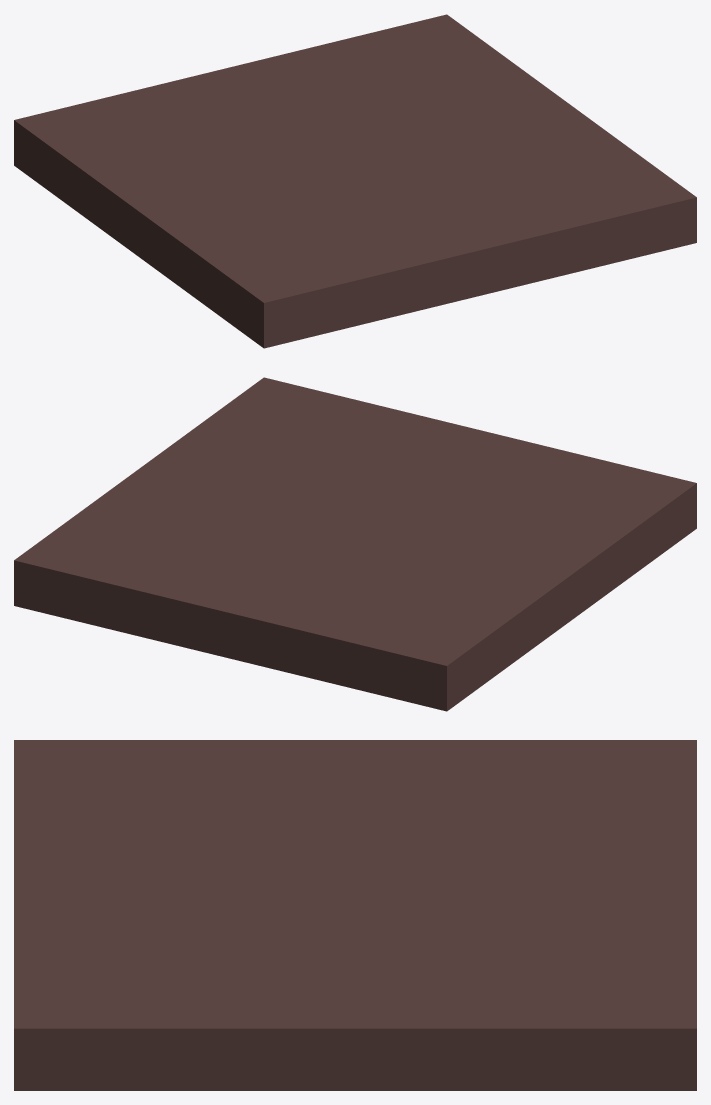
File: floor.FBX
3 renders of one model, top to bottom at view 1: azimuth 30°, elevation 25°; view 2: azimuth 150°, elevation 25°; view 3: azimuth 270°, elevation 25°, orthographic. The views are drawn at different scales.
Visible parts, largest first — view 1: Object267; view 2: Object267; view 3: Object267.
Part boxes in pixels (left/top/right/bottom): Object267: left=14, top=14, right=696, bottom=348; Object267: left=14, top=377, right=696, bottom=711; Object267: left=14, top=740, right=696, bottom=1090.
Size of the model in its own units: 100 by 100 by 10.05.
